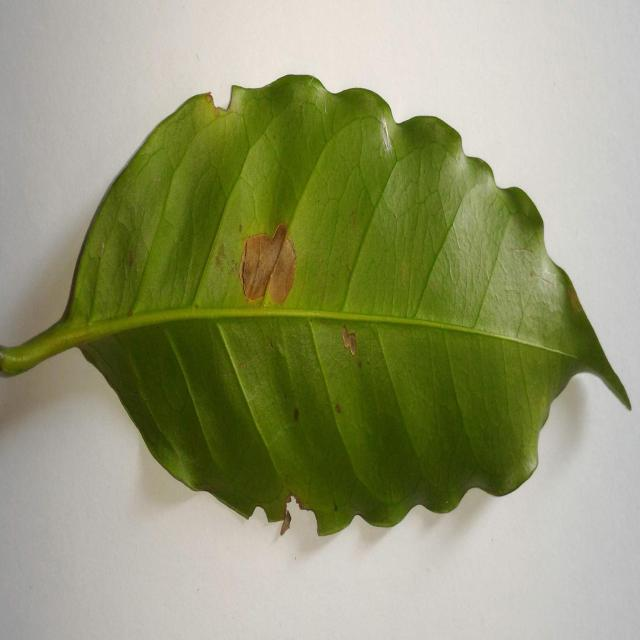miner: (238, 222, 297, 306), (341, 325, 357, 357)
